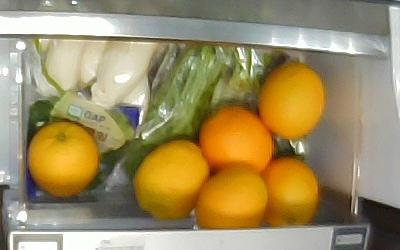orange: (131, 139, 210, 219), (28, 121, 100, 197), (197, 106, 273, 175), (258, 62, 324, 140), (193, 164, 267, 228), (261, 154, 319, 227)
